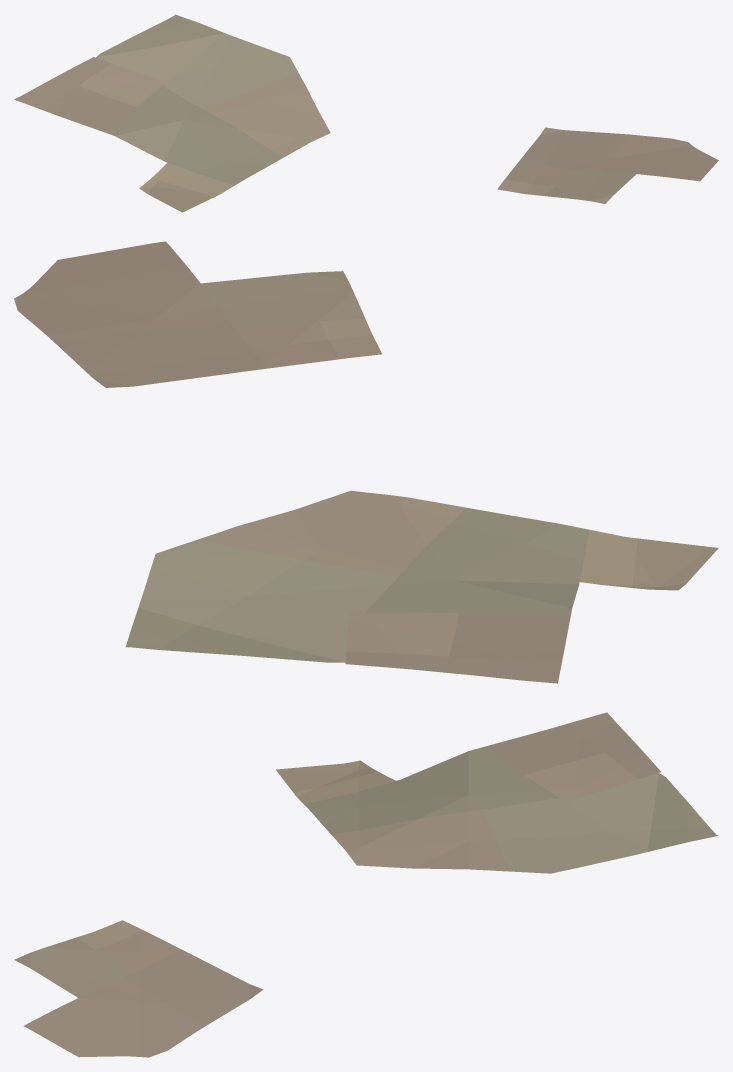
Rendered from farm_28_14_soil.glb.
The picture shows the model from 3 angles, top to bottom: view 1: azimuth 30°, elevation 25°; view 2: azimuth 150°, elevation 25°; view 3: azimuth 270°, elevation 25°; orthographic projection. The views are drawn at different scales.
Visible parts, largest first — view 1: geometry_0; view 2: geometry_0; view 3: geometry_0.
Part boxes in pixels (<box>): geometry_0: <box>14,14,718,212</box>; geometry_0: <box>14,241,718,683</box>; geometry_0: <box>14,712,718,1057</box>.
Bounding box in the file's own units: 531 × 34.64 × 514.
